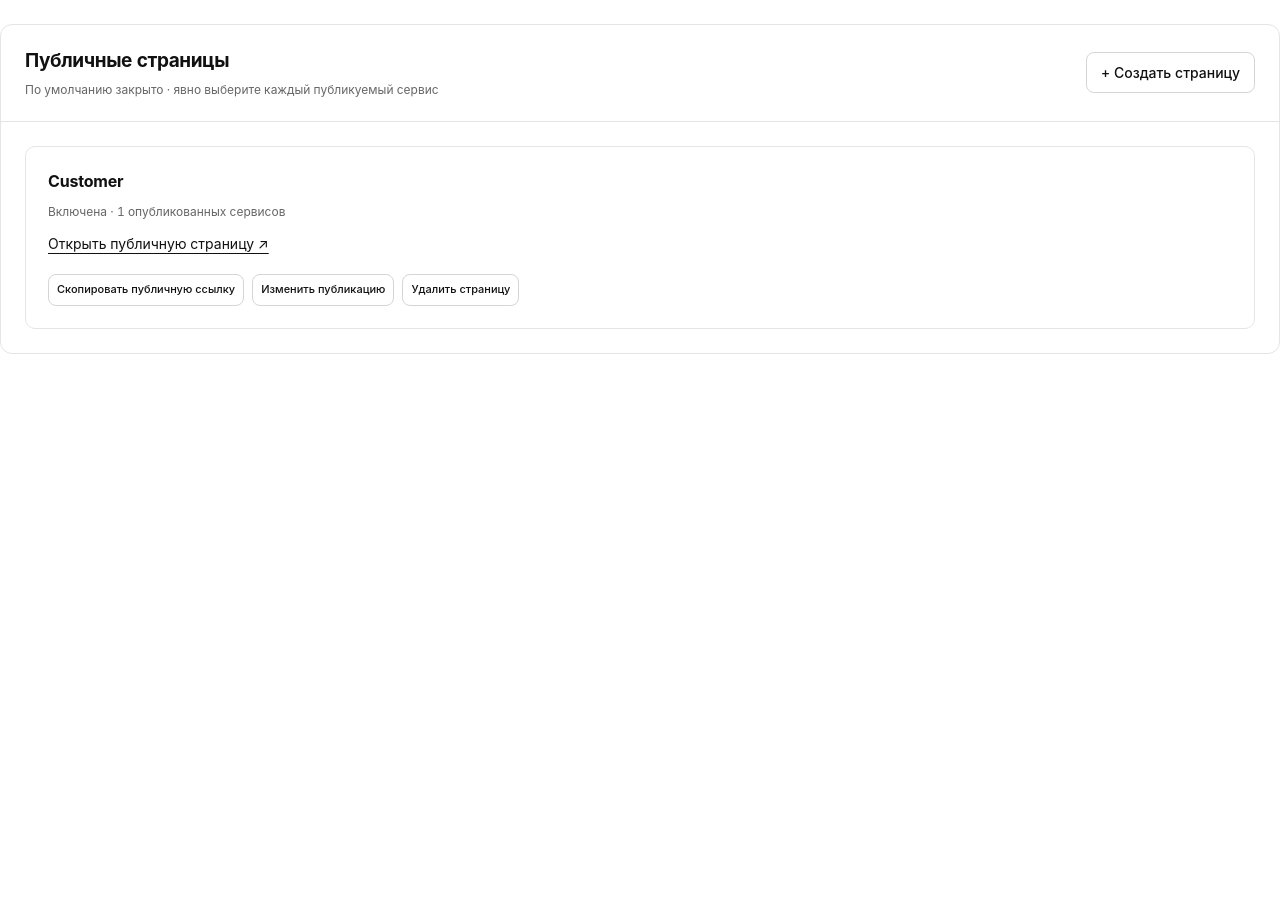
Test: preserves the public-label draft on an optimistic concurrency conflict
This screenshot has width=1280, height=900.
Click the button "Изменить публикацию".
click(323, 290)  # box [252, 274, 394, 306]
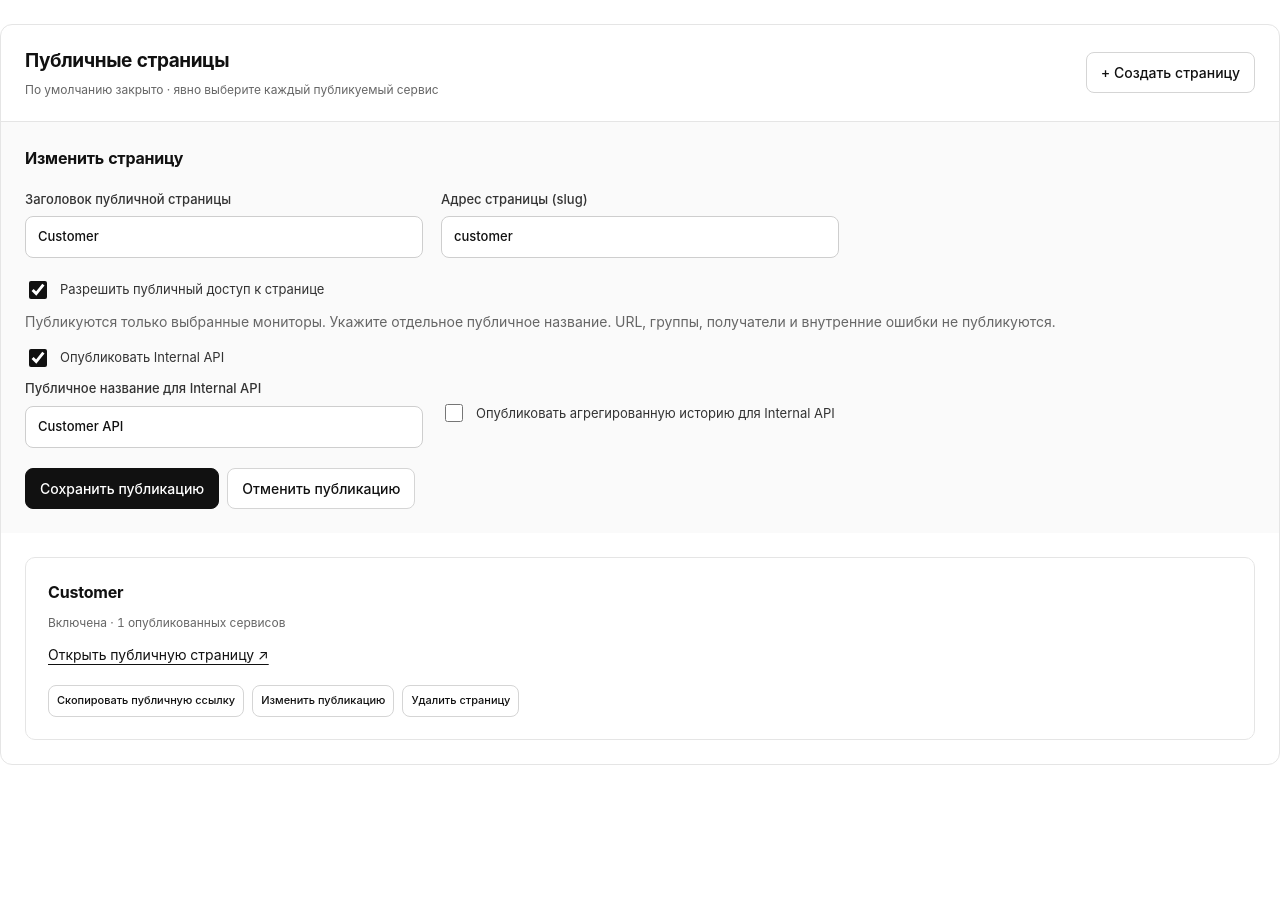
Replace the text in the field labelled "Публичное название для Internal API" with "Preserved customer label" at x=224, y=426, box [25, 406, 423, 448]
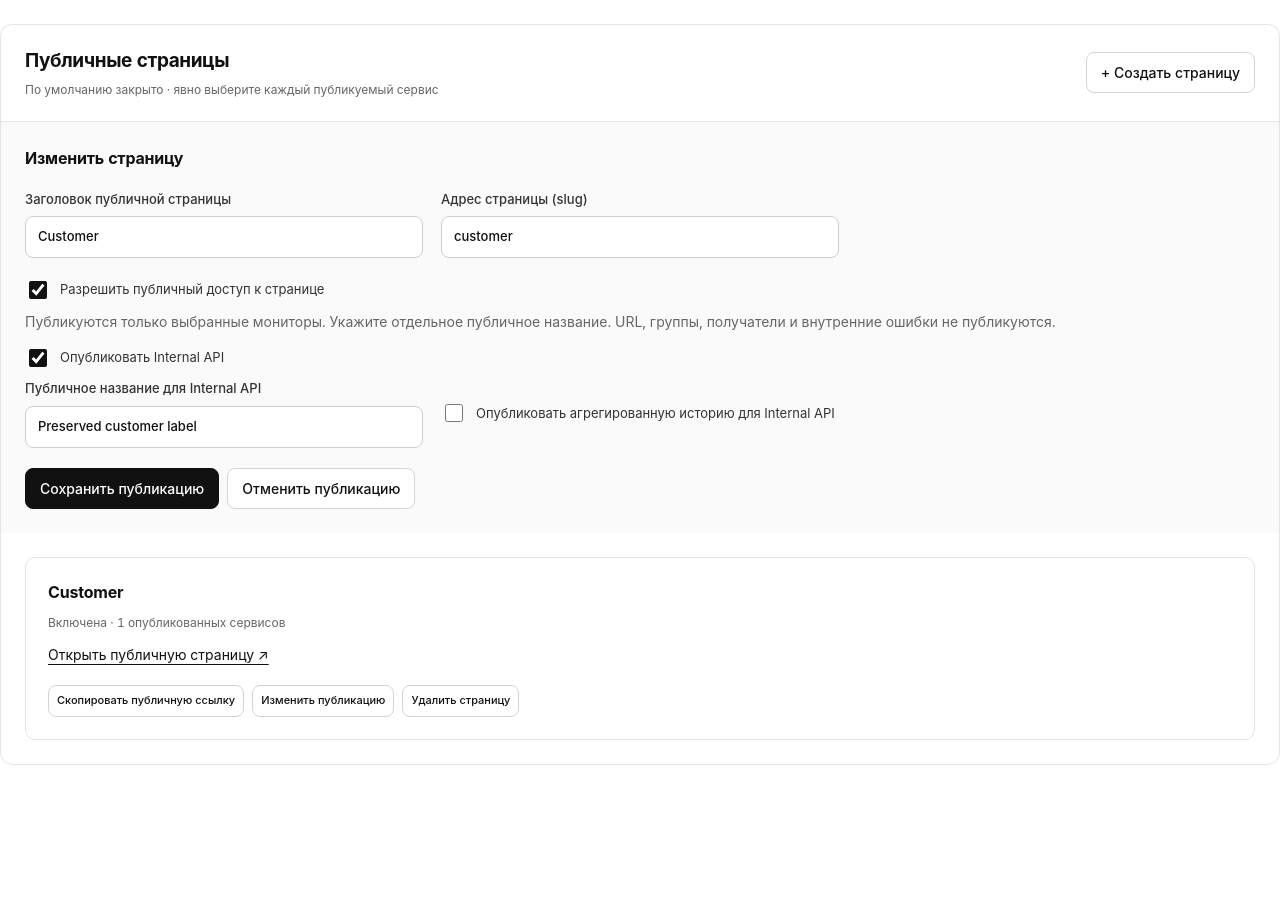
Click the button "Сохранить публикацию".
click(122, 488)  # box [25, 468, 219, 508]
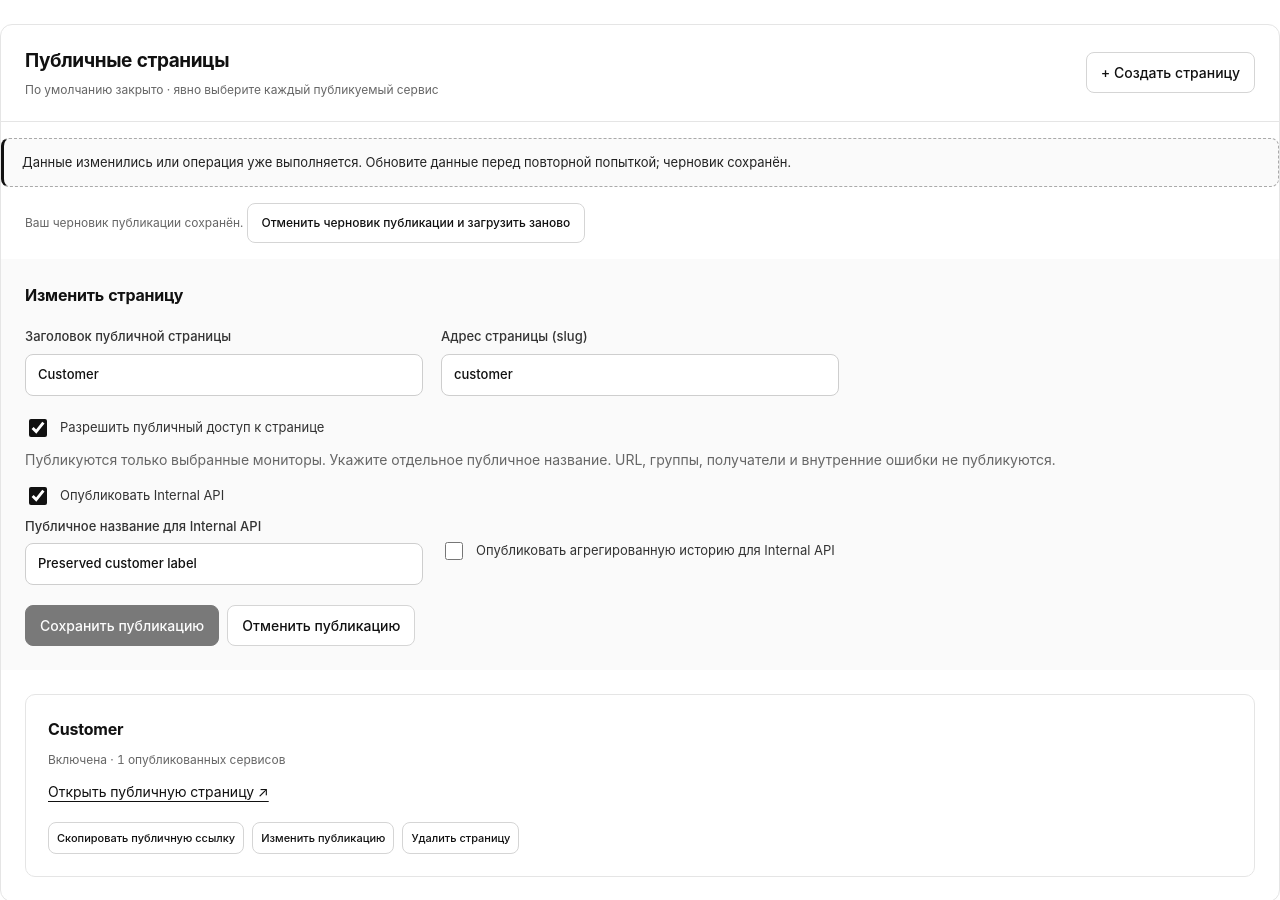
Check: the text "Ваш черновик публикации сохранён" is shown, box [25, 215, 243, 230]
Check: the button "Сохранить публикацию" is disabled, box [25, 605, 219, 646]
